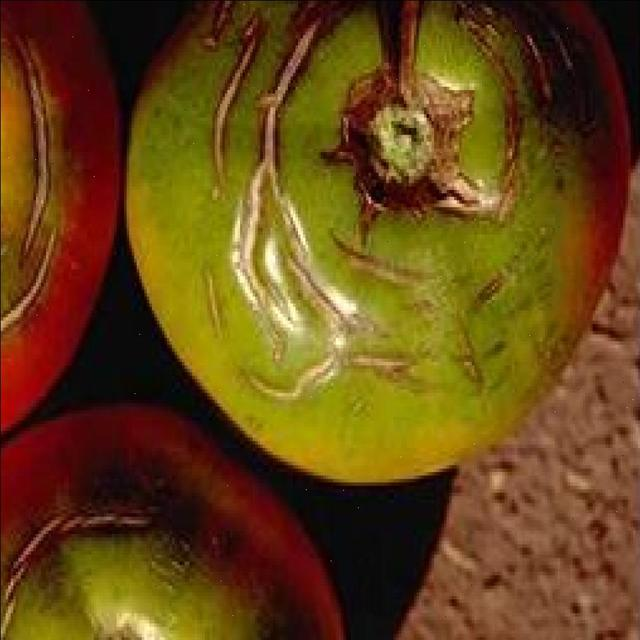Cracking Fruit: (23, 85, 323, 376)
